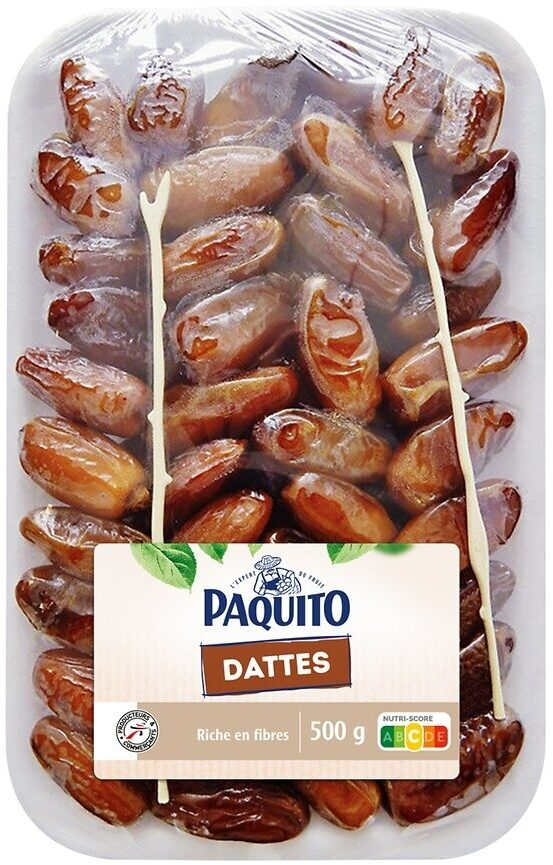Dattes deglet nour ravier 500g: (28, 43, 525, 822)
